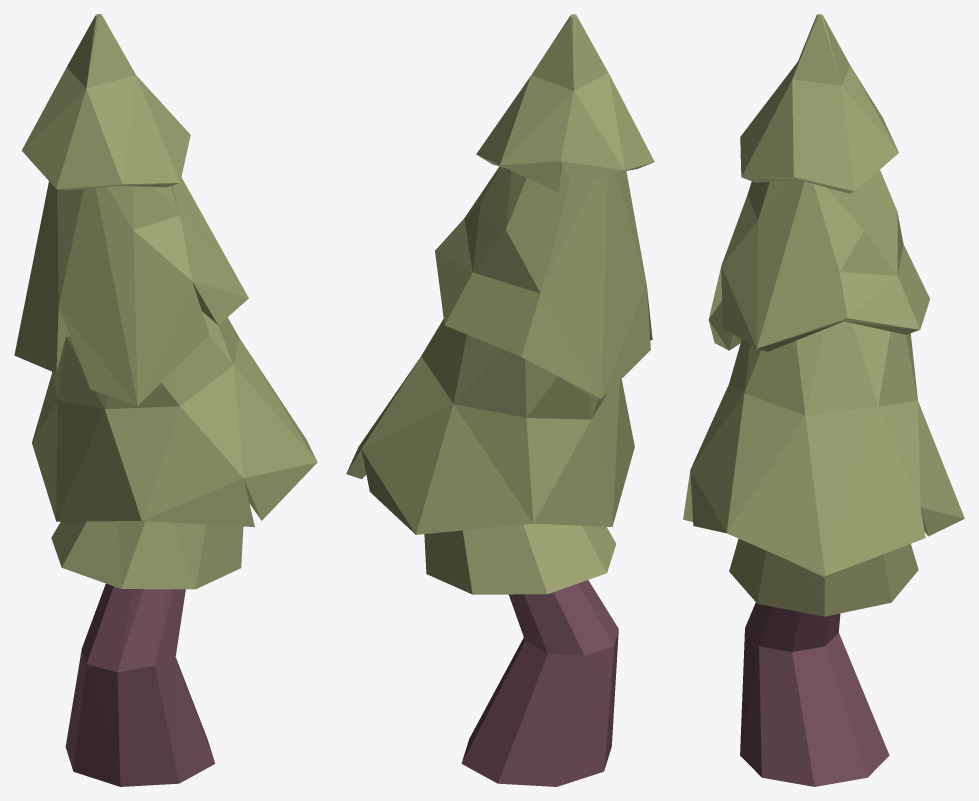
File: Tree.fbx
The picture shows the model from 3 angles, left to right: view 1: azimuth 30°, elevation 25°; view 2: azimuth 150°, elevation 25°; view 3: azimuth 270°, elevation 25°; orthographic projection. The views are drawn at different scales.
Parts seen in each view (by area): view 1: Tree; view 2: Tree; view 3: Tree.
Part boxes in pixels (x1,y1,x2,y2): Tree: (14, 14, 317, 786); Tree: (346, 14, 654, 786); Tree: (683, 14, 964, 786).
Size of the model in its own units: 326 by 847 by 300.
